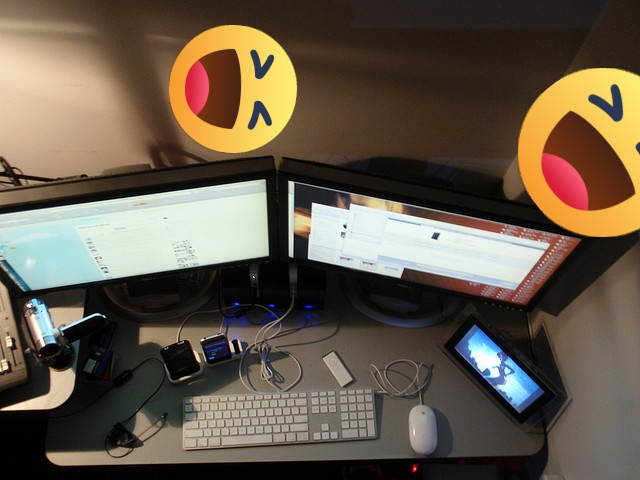haha: (518, 68, 640, 237), (169, 25, 297, 153)
